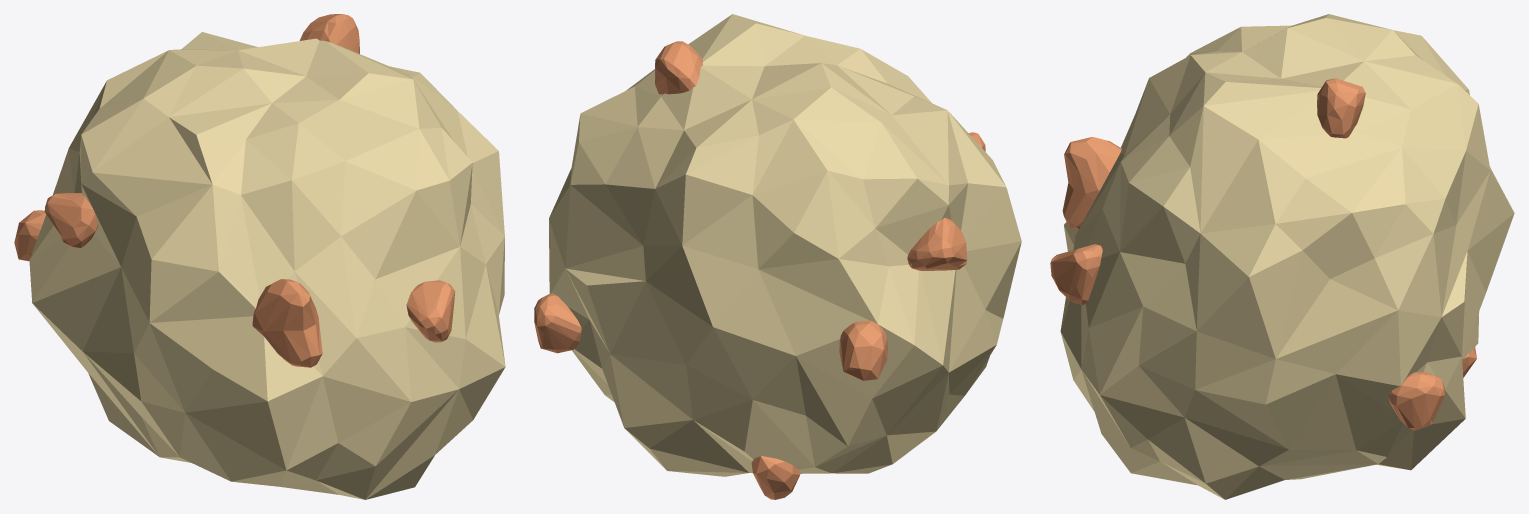
The model's file is StoneOre (42).fbx.
3 views of the same model, side by side, from view 1: azimuth 30°, elevation 25°; view 2: azimuth 150°, elevation 25°; view 3: azimuth 270°, elevation 25° (orthographic). The views are drawn at different scales.
Parts seen in each view (by area): view 1: Asteroid329; view 2: Asteroid329; view 3: Asteroid329.
Boxes of the visible parts, x1,y1,x2,y2 form: Asteroid329: (14,14,505,499); Asteroid329: (534,14,1021,499); Asteroid329: (1050,14,1514,499).
Size of the model in its own units: 448 by 442 by 434.
